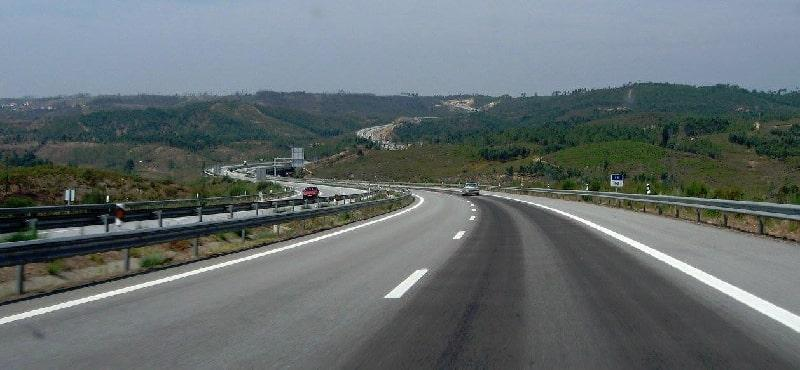car: (300, 183, 322, 199), (460, 183, 483, 198)
